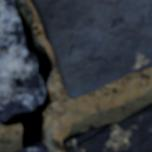brick: (31, 0, 151, 97), (0, 0, 45, 120), (63, 105, 151, 151), (22, 143, 47, 151)
crack: (0, 2, 52, 149), (68, 125, 111, 148)
